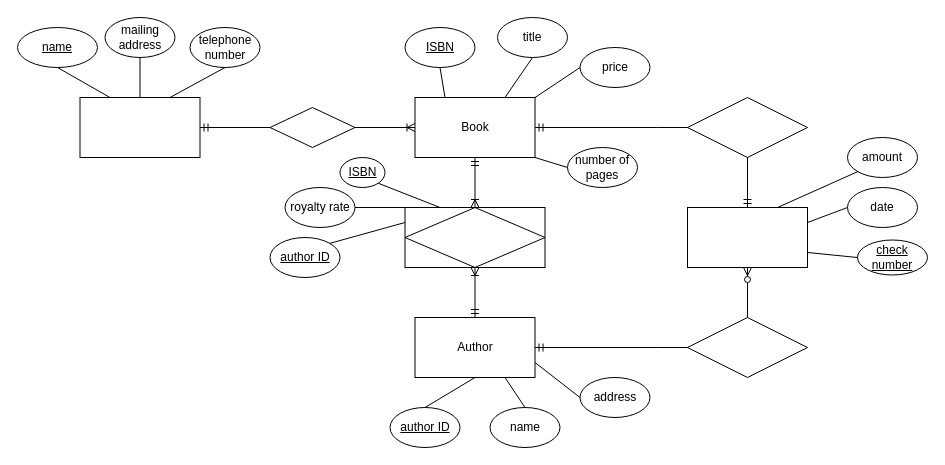
This 945x465 diagram has some shape labels left out. The centre of each missing label's shape, as x and y in pixels:
"Have" belongs at point 747,127.
"Publish" belongs at point 312,127.
"Publisher" belongs at point 139,127.
"Receive" belongs at point 747,347.
"Royal check" belongs at point 747,237.
"Write" belongs at point 474,237.
